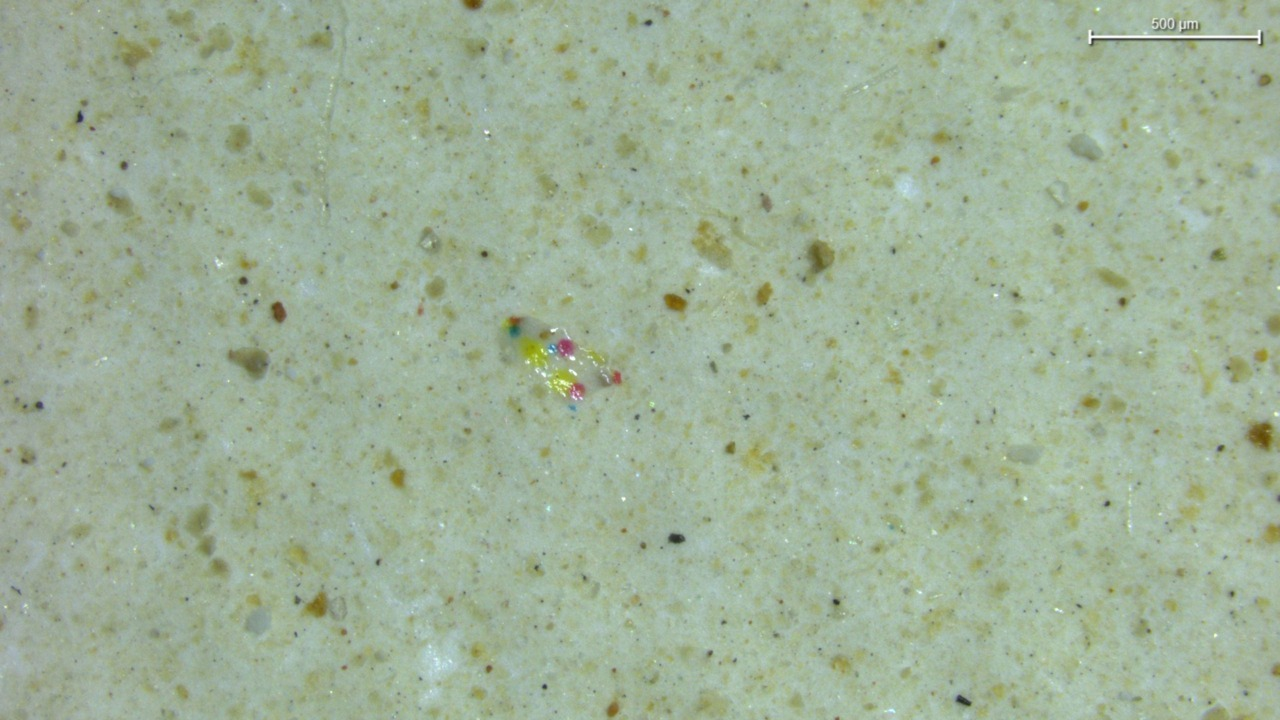microplastic_fragment: (502, 316, 622, 401)
